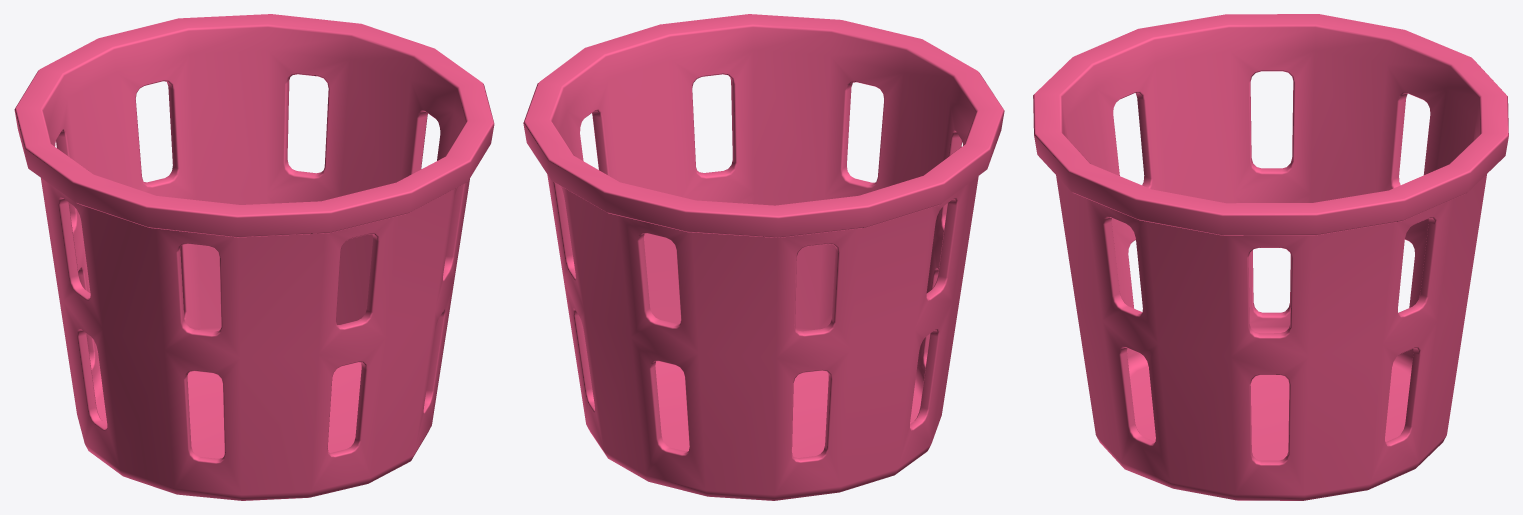
The model's file is Public_13_Basket_2.glb.
3 renders of one model, left to right at view 1: azimuth 30°, elevation 25°; view 2: azimuth 150°, elevation 25°; view 3: azimuth 270°, elevation 25°, orthographic.
Visible parts, largest first — view 1: Public_13_Basket_2; view 2: Public_13_Basket_2; view 3: Public_13_Basket_2.
Part boxes in pixels (left/top/right/bottom): Public_13_Basket_2: left=14, top=14, right=494, bottom=500; Public_13_Basket_2: left=523, top=14, right=1004, bottom=500; Public_13_Basket_2: left=1033, top=14, right=1508, bottom=500.
Bounding box in the file's own units: 0.8809 × 0.6493 × 0.8809.
1 material, 1 textured.
